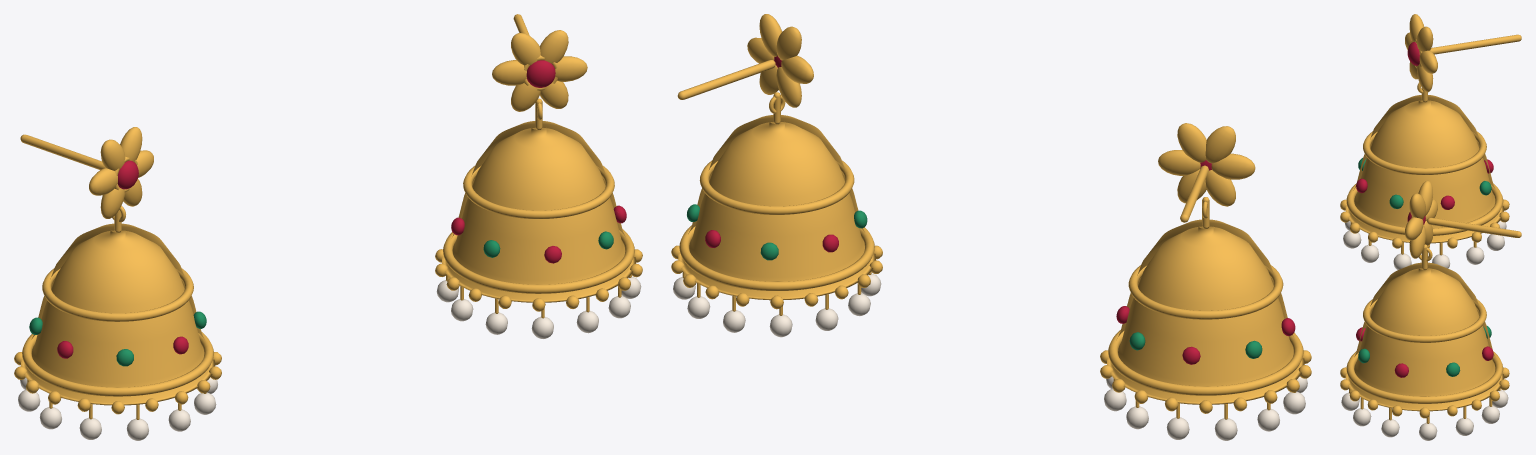
File: traditional-earrings.glb
3 renders of one model, left to right at view 1: azimuth 30°, elevation 25°; view 2: azimuth 150°, elevation 25°; view 3: azimuth 270°, elevation 25°, orthographic. The views are drawn at different scales.
Visible parts, largest first — view 1: metal, pearl, ruby-cabochon, emerald-cabochon; view 2: metal, pearl, ruby-cabochon, emerald-cabochon; view 3: metal, pearl, ruby-cabochon, emerald-cabochon.
Boxes of the visible parts, x1=… form: metal: x1=14, y1=14, x2=642, y2=419; pearl: x1=18, y1=276, x2=641, y2=440; ruby-cabochon: x1=57, y1=60, x2=626, y2=358; emerald-cabochon: x1=29, y1=231, x2=613, y2=366; metal: x1=671, y1=14, x2=1311, y2=419; pearl: x1=673, y1=273, x2=1307, y2=440; ruby-cabochon: x1=705, y1=56, x2=1295, y2=364; emerald-cabochon: x1=687, y1=204, x2=1262, y2=358; metal: x1=1340, y1=14, x2=1521, y2=423; pearl: x1=1341, y1=220, x2=1508, y2=440; ruby-cabochon: x1=1356, y1=42, x2=1493, y2=377; emerald-cabochon: x1=1358, y1=158, x2=1491, y2=376.
Bounding box in the file's own units: 4.58 × 1.96 × 1.46.
